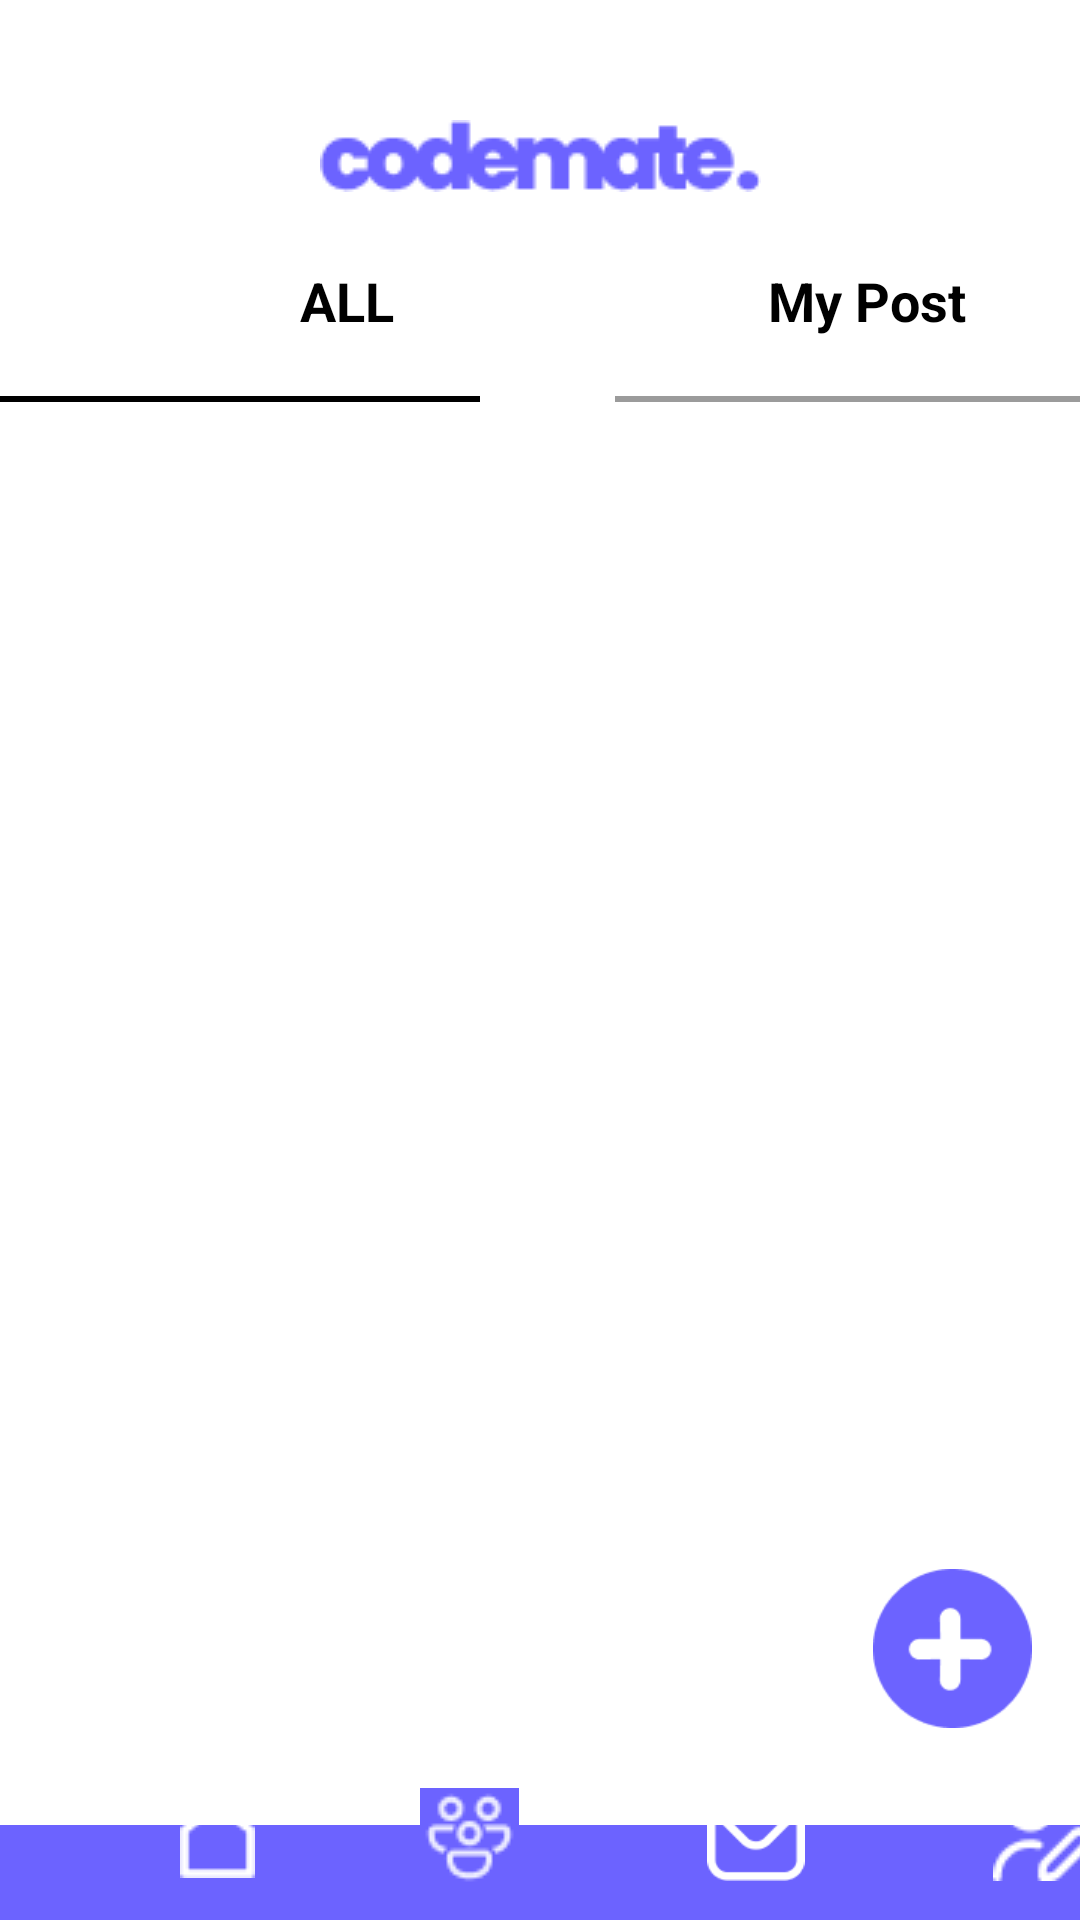

Icon click points for this 1080w x 1920h phone screenshot, format (x,y):
commu: (469,1837)
gopost: (952,1648)
